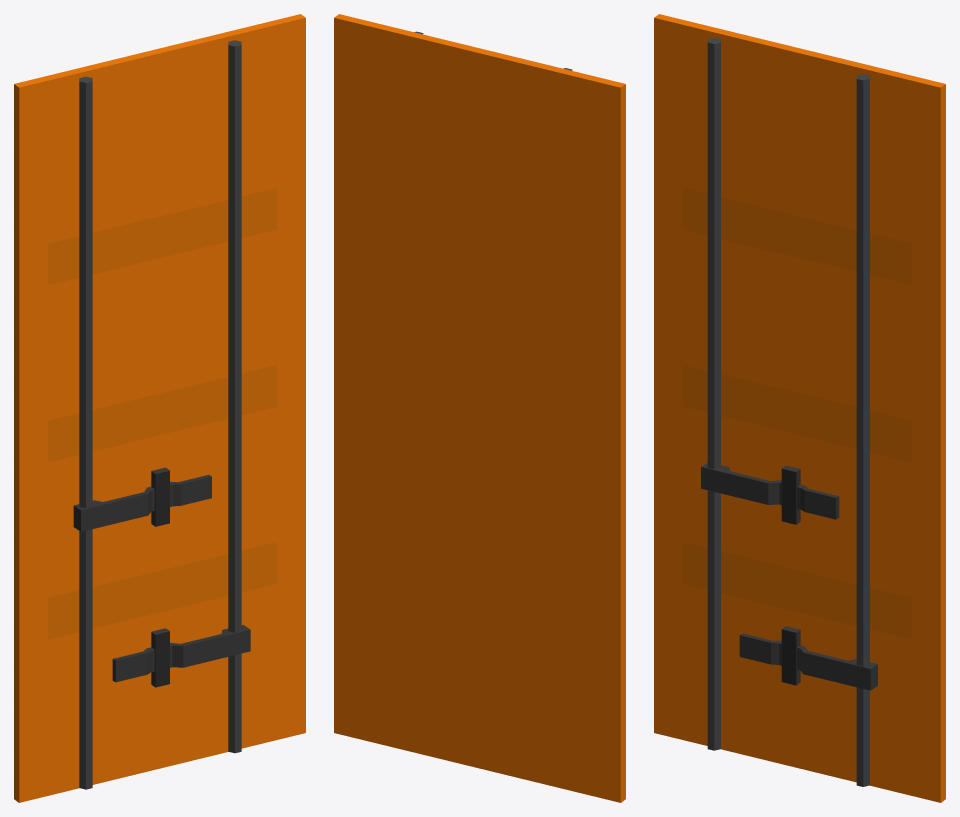
The model's file is SM_IndustrialProps_ShippingContainer_02_Door_02.fbx.
3 views of the same model, side by side, from view 1: azimuth 30°, elevation 25°; view 2: azimuth 150°, elevation 25°; view 3: azimuth 330°, elevation 25° (orthographic).
Visible parts, largest first — view 1: SM_IndustrialProps_ShippingContainer_02_Door_02; view 2: SM_IndustrialProps_ShippingContainer_02_Door_02; view 3: SM_IndustrialProps_ShippingContainer_02_Door_02.
Boxes of the visible parts, left/top/right/bottom form: SM_IndustrialProps_ShippingContainer_02_Door_02: left=14, top=14, right=305, bottom=802; SM_IndustrialProps_ShippingContainer_02_Door_02: left=334, top=14, right=625, bottom=802; SM_IndustrialProps_ShippingContainer_02_Door_02: left=654, top=14, right=945, bottom=802.
Size of the model in its own units: 1.09 by 2.6 by 0.0825.
